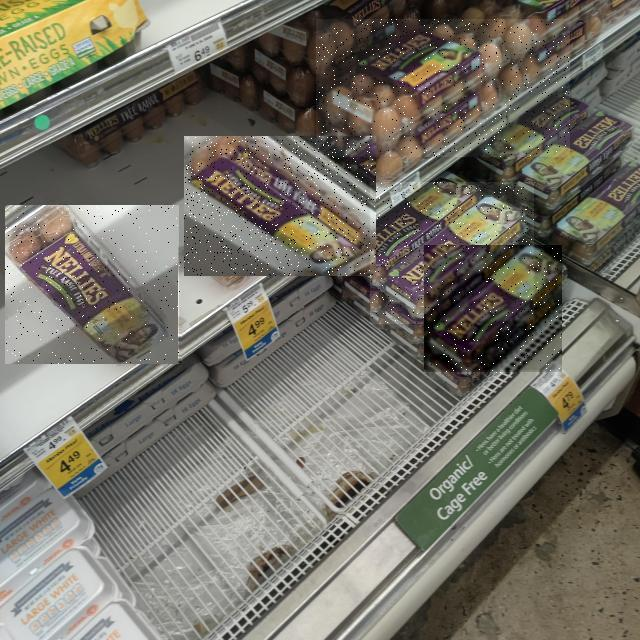egg: (143, 187, 640, 561), (103, 162, 637, 486), (0, 138, 372, 414), (31, 78, 602, 235), (0, 182, 97, 546)
